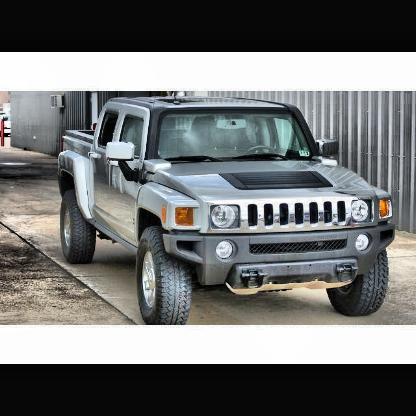HUMMER H3T Crew Cab 2010: (49, 93, 401, 319)
